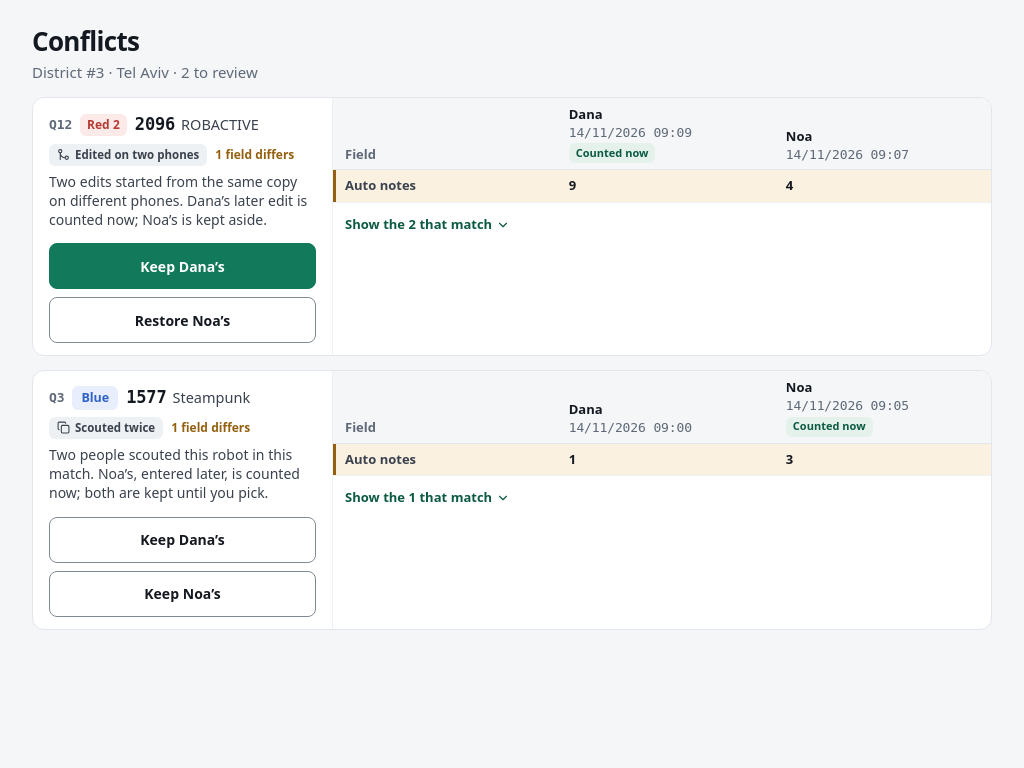
it: ConflictsPage — Undo is a delayed send (README "Settling a card, and Undo") › Undo cancels: nothing is sent, and the card opens again
Click the button "Keep Dana’s" below "Edited on two phones" at (182, 266), box [49,243,316,289]
Wait 3000 ms
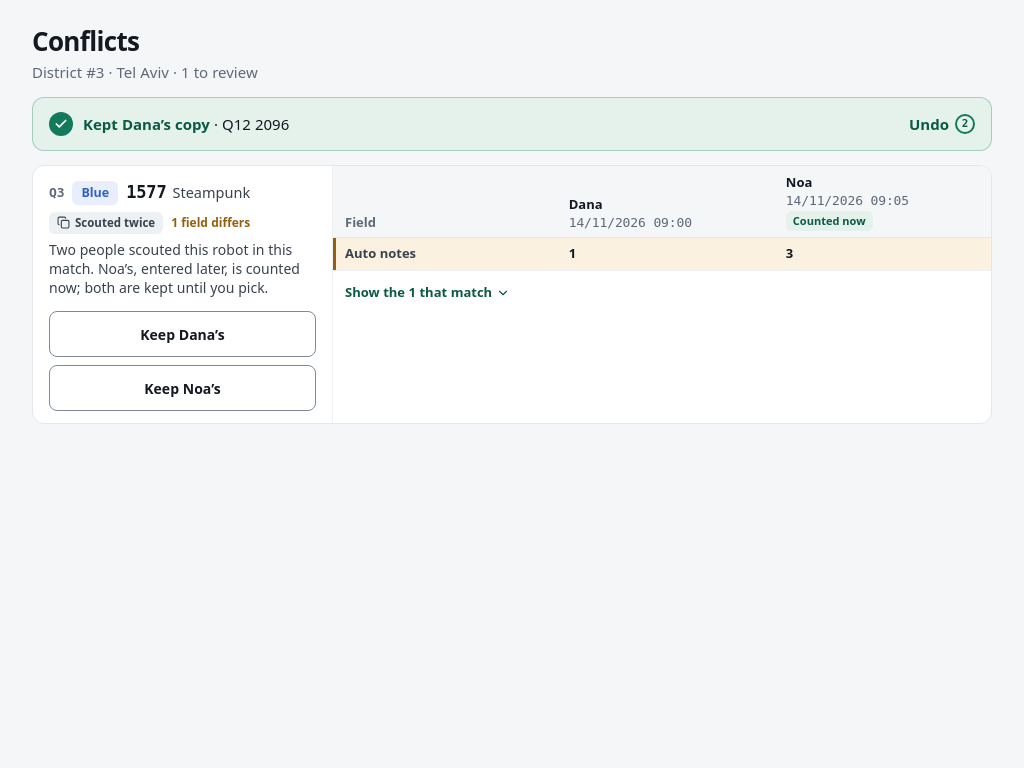
Click the button "Undo 2" at (942, 124), box [905,106,979,142]
Wait 15000 ms
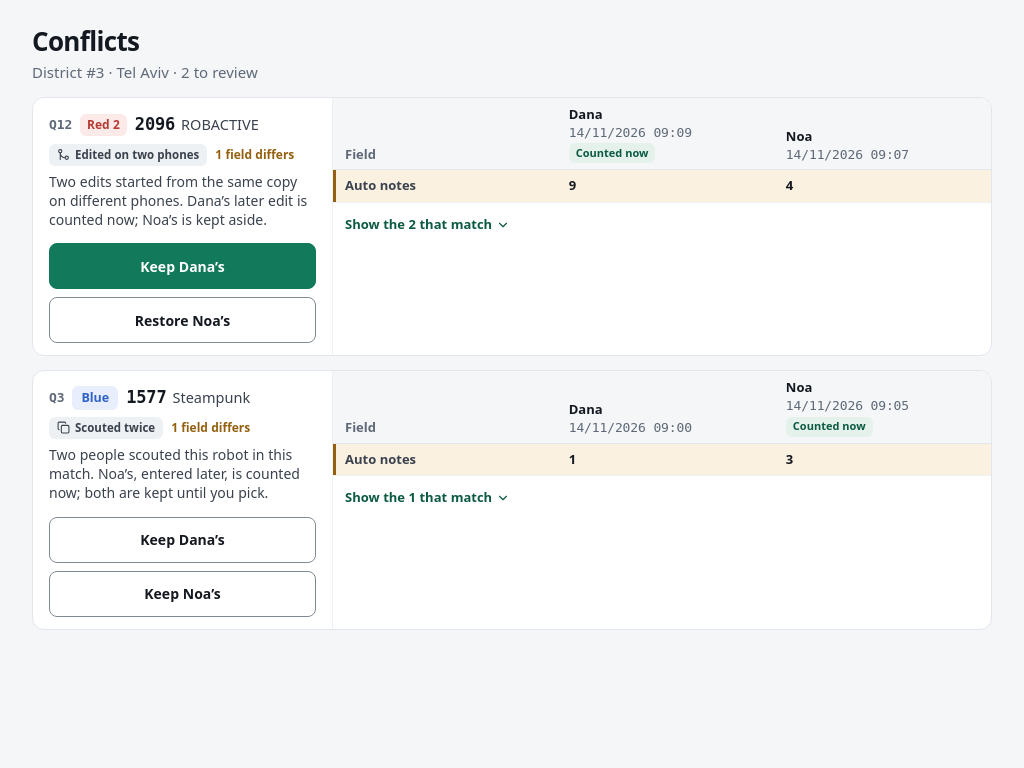
Now the element "2096 ROBACTIVE" is shown, box [32,97,992,356]
Now the text "Kept Dana’s copy" is gone
